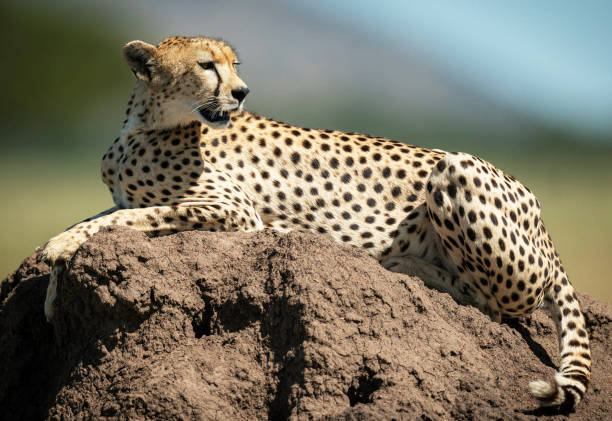cheetah: (105, 23, 253, 141)
